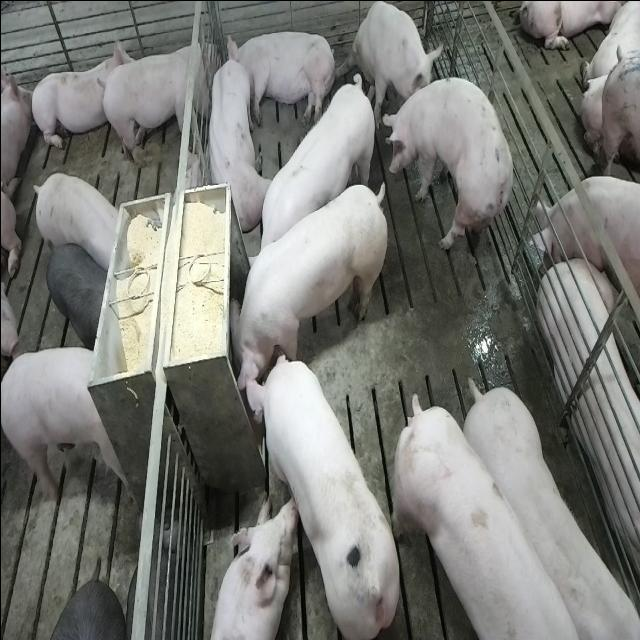Feeding: (239, 348, 405, 638), (221, 176, 384, 404)
Lateral_lying: (539, 253, 640, 612), (226, 28, 336, 128)
Sitting: (346, 2, 443, 130)
Standing: (392, 392, 596, 640), (466, 379, 640, 640), (246, 72, 378, 288), (386, 76, 518, 260), (0, 343, 132, 506), (100, 31, 218, 168), (530, 174, 640, 307), (31, 170, 128, 271), (43, 238, 109, 344)
Sternal_lying: (206, 494, 293, 640), (28, 34, 128, 154), (203, 48, 266, 232)
